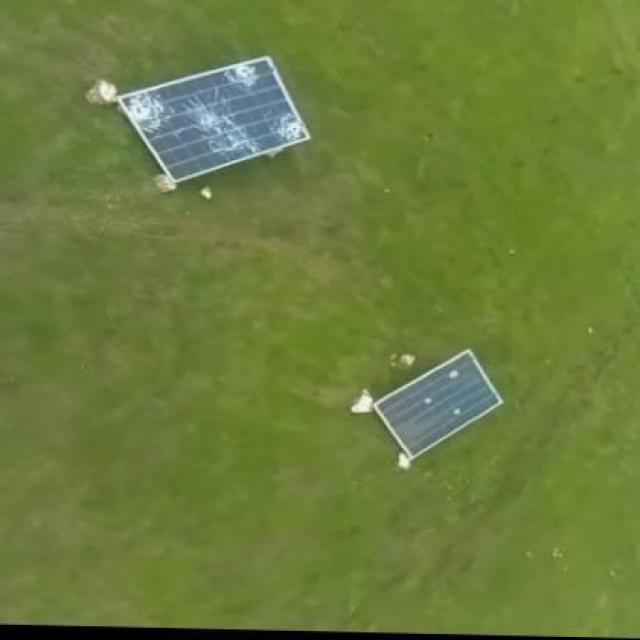cracked: (112, 53, 312, 180)
soiled: (366, 342, 506, 460)
